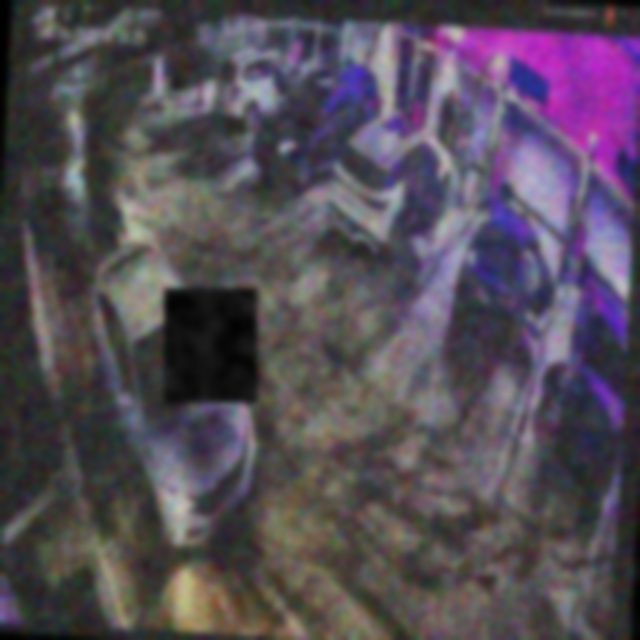Car: (74, 236, 266, 550), (326, 112, 454, 258), (252, 56, 383, 185), (451, 201, 560, 349)
